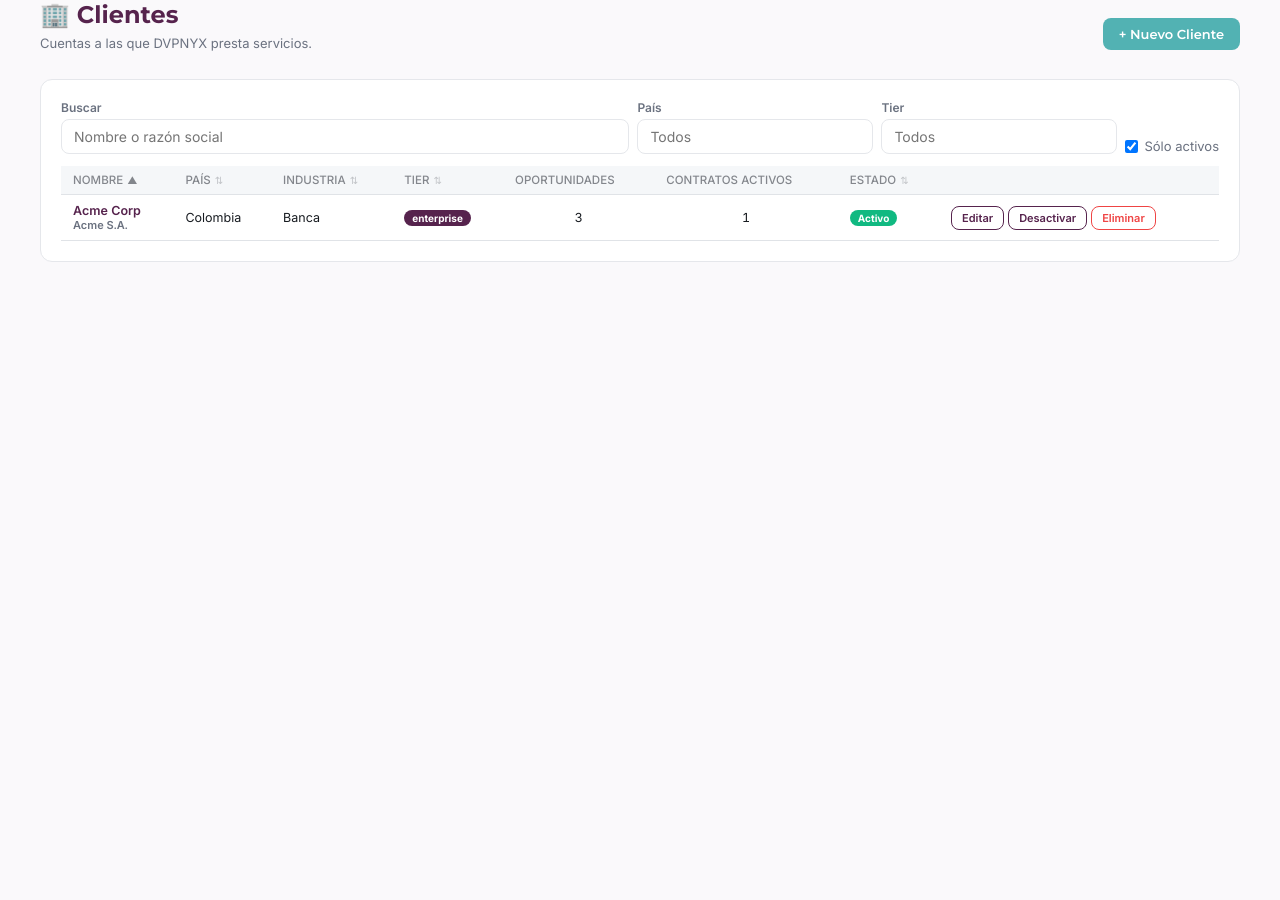
Test: Clients module › opens edit modal with prefilled name on "Editar"
Check: the link "Acme Corp" is shown, box [73,203,141,218]
Click the button with aria-label "Editar Acme Corp".
click(978, 218)  # box [951,206,1004,230]
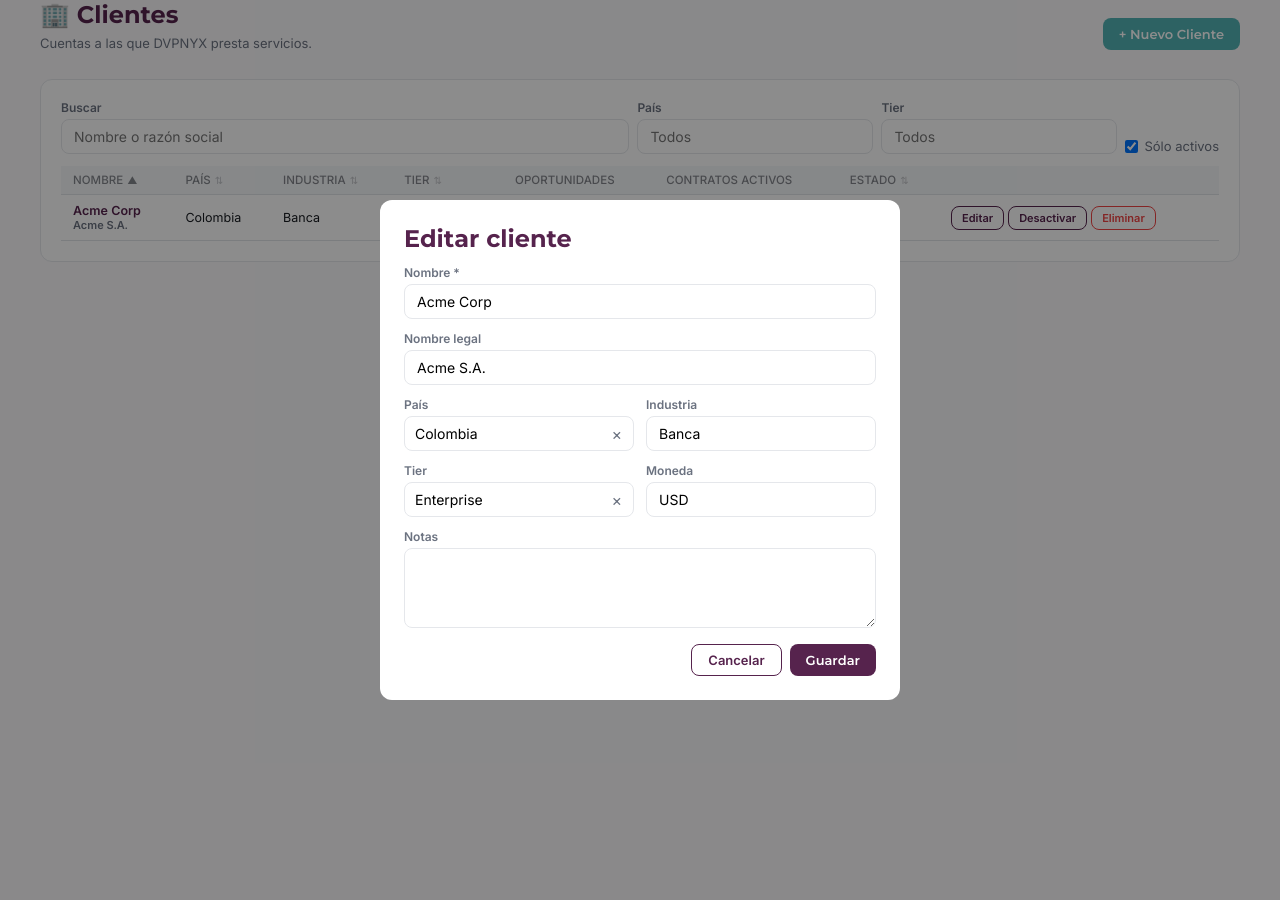
Check: the heading "Editar cliente" is shown, box [404,224,572,253]
Check: the field showing "Acme Corp" below "Nombre *" is shown, box [404,284,876,319]
